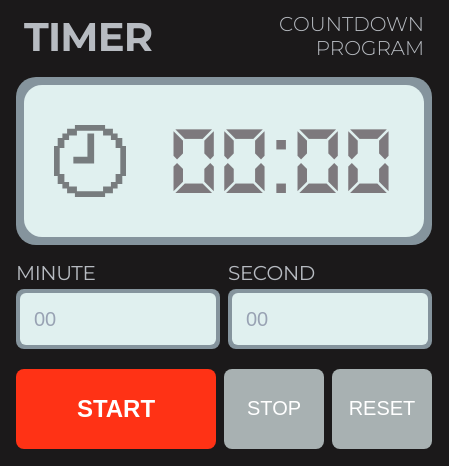
it: 카운트다운 테스트 › 카운트다운 동작 테스트
Expected: the picture with alt text "clock" has style "opacity: 0.55", [54, 124, 126, 196]
Type "0" into the number field labelled "MINUTE" at {"x": 118, "y": 318}, box [32, 306, 204, 330]
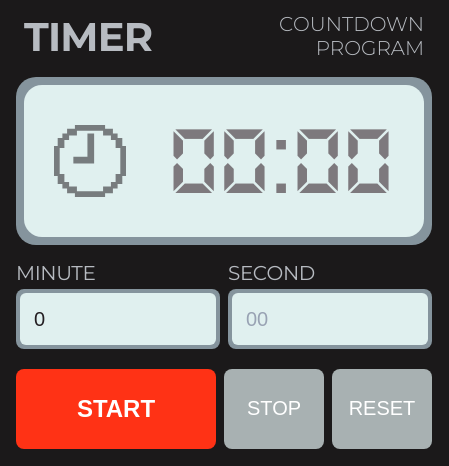
Type "67" into the number field labelled "SECOND" at {"x": 330, "y": 318}, box [244, 306, 416, 330]
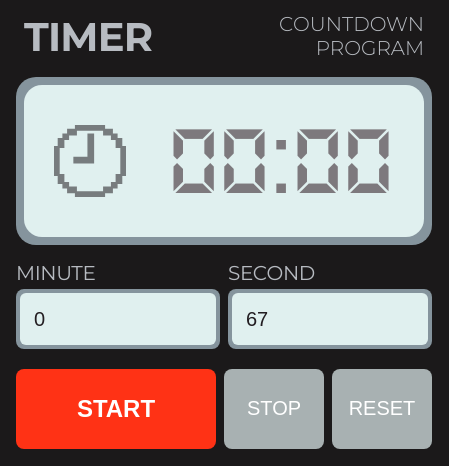
Click the button "START" at {"x": 116, "y": 408}, box [16, 368, 216, 448]
Wait 4000 ms
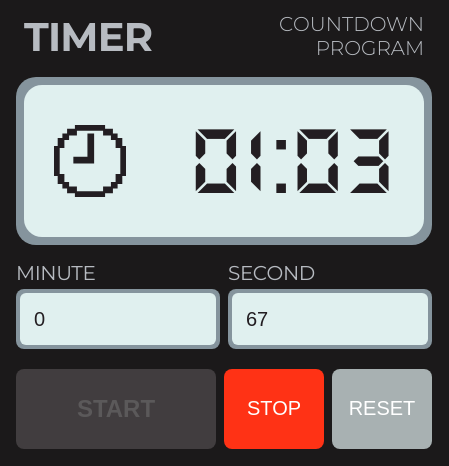
Result: the text "01:03" is shown at [190, 110, 394, 210]
Click the button "STOP" at {"x": 274, "y": 408}, box [224, 368, 324, 448]
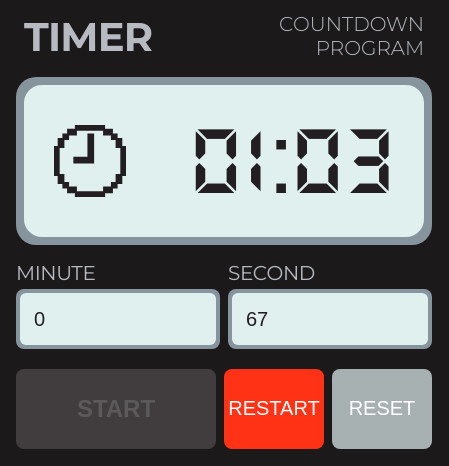
Result: the text "01:03" is shown at [190, 110, 394, 210]
Result: the button "STOP" is gone
Click the button "RESTART" at {"x": 274, "y": 408}, box [224, 368, 324, 448]
Wait 4000 ms
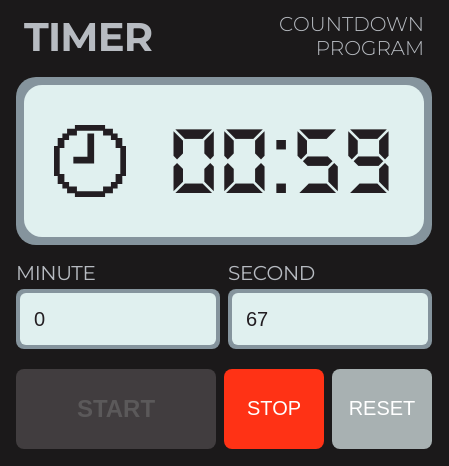
Result: the text "00:59" is shown at [168, 110, 394, 210]
Click the button "RESET" at {"x": 382, "y": 408}, box [332, 368, 432, 448]
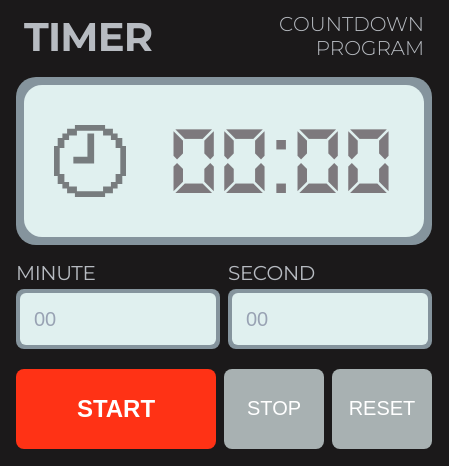
Expected: the button "RESTART" is not shown
Result: the text "00:00" is shown at [168, 110, 394, 210]
